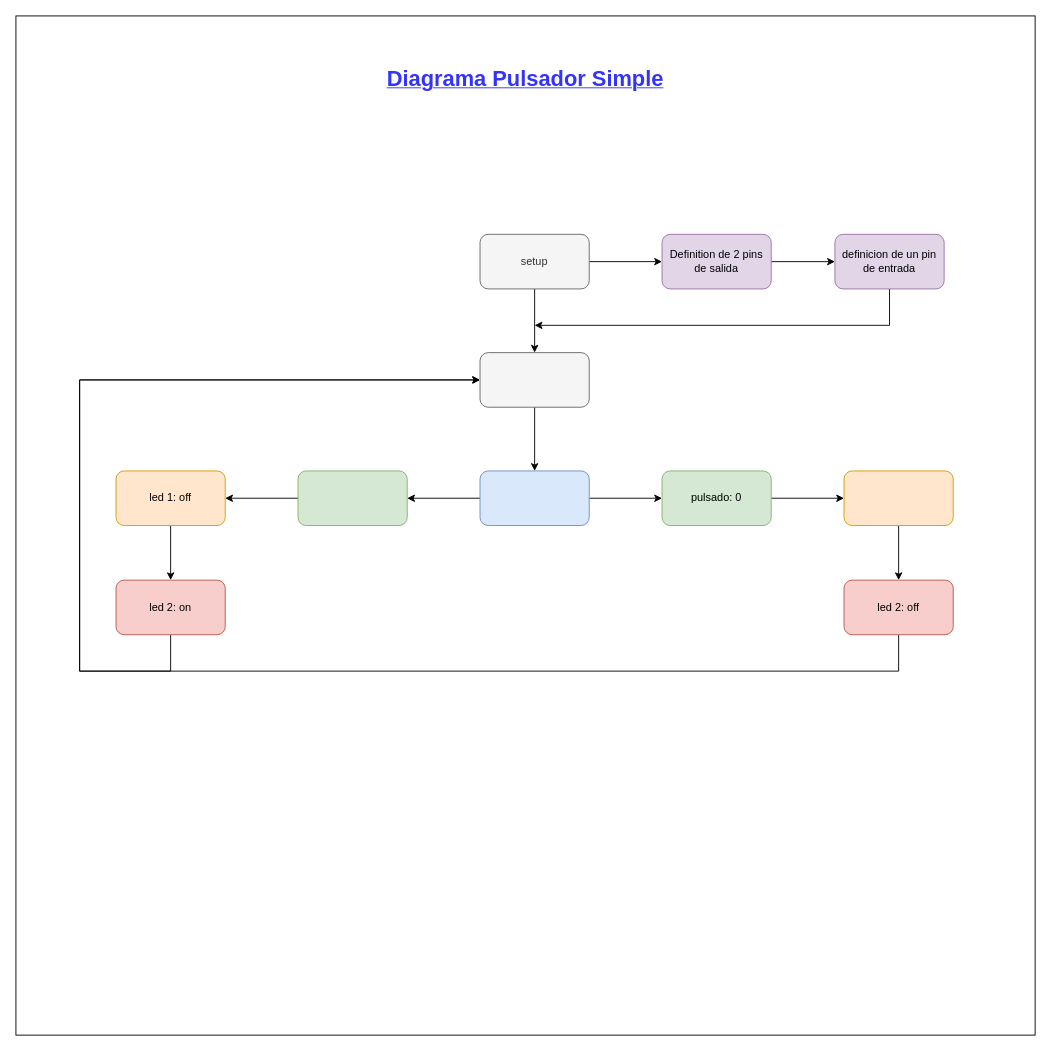
Some shapes in this 1051 by 1051 pixel diagram are drawn without their labels. The box of each missing label's shape, as (x1, y1, x2, y2) in pixels:
led 1: on: (843, 470, 953, 526)
loop: (479, 352, 589, 407)
pulsado: 1: (297, 470, 407, 526)
pulsador: (479, 470, 589, 526)
